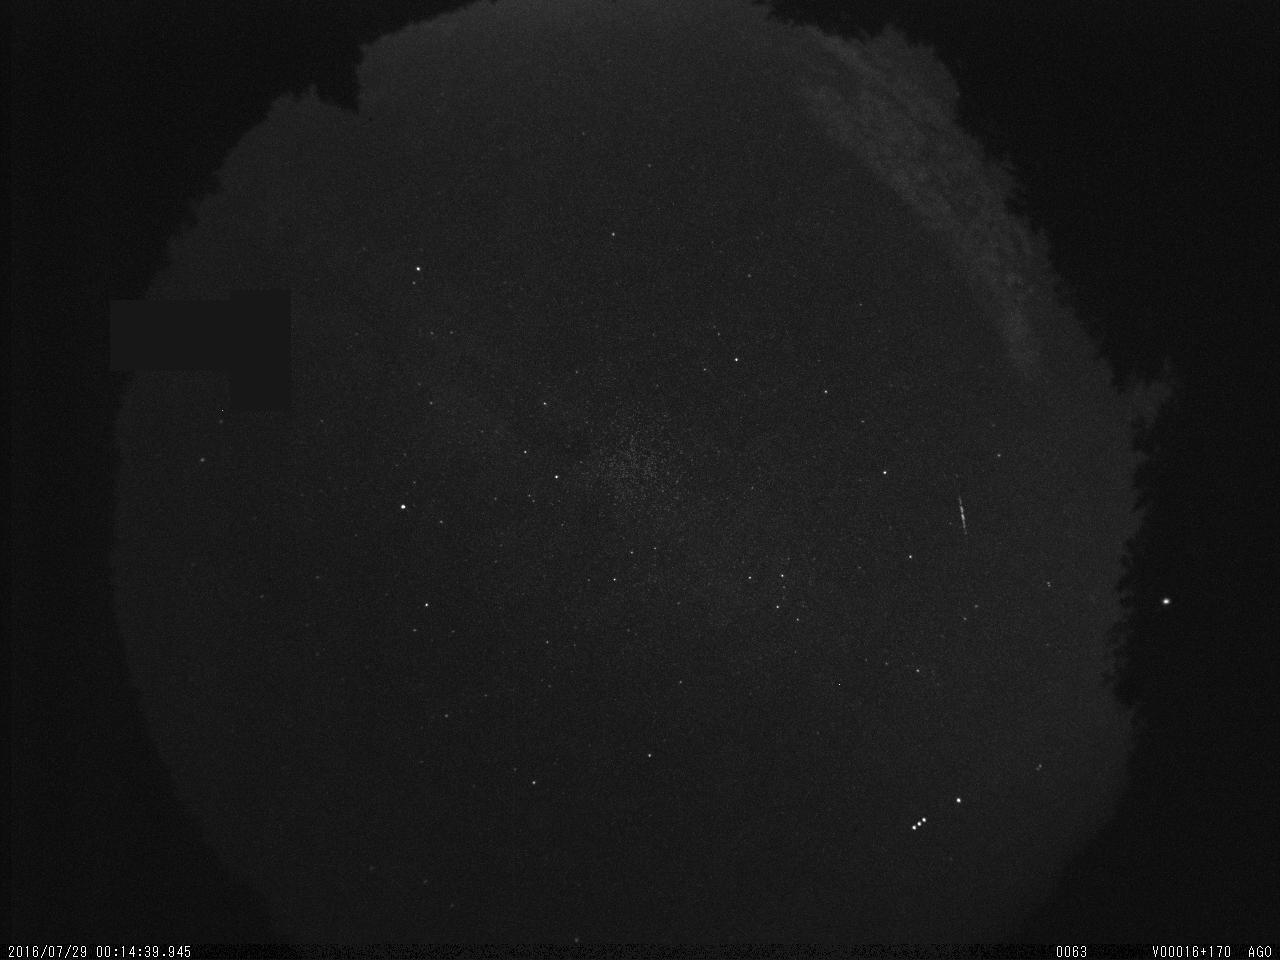meteor: (947, 488, 977, 544)
satelite: (903, 810, 935, 838)
